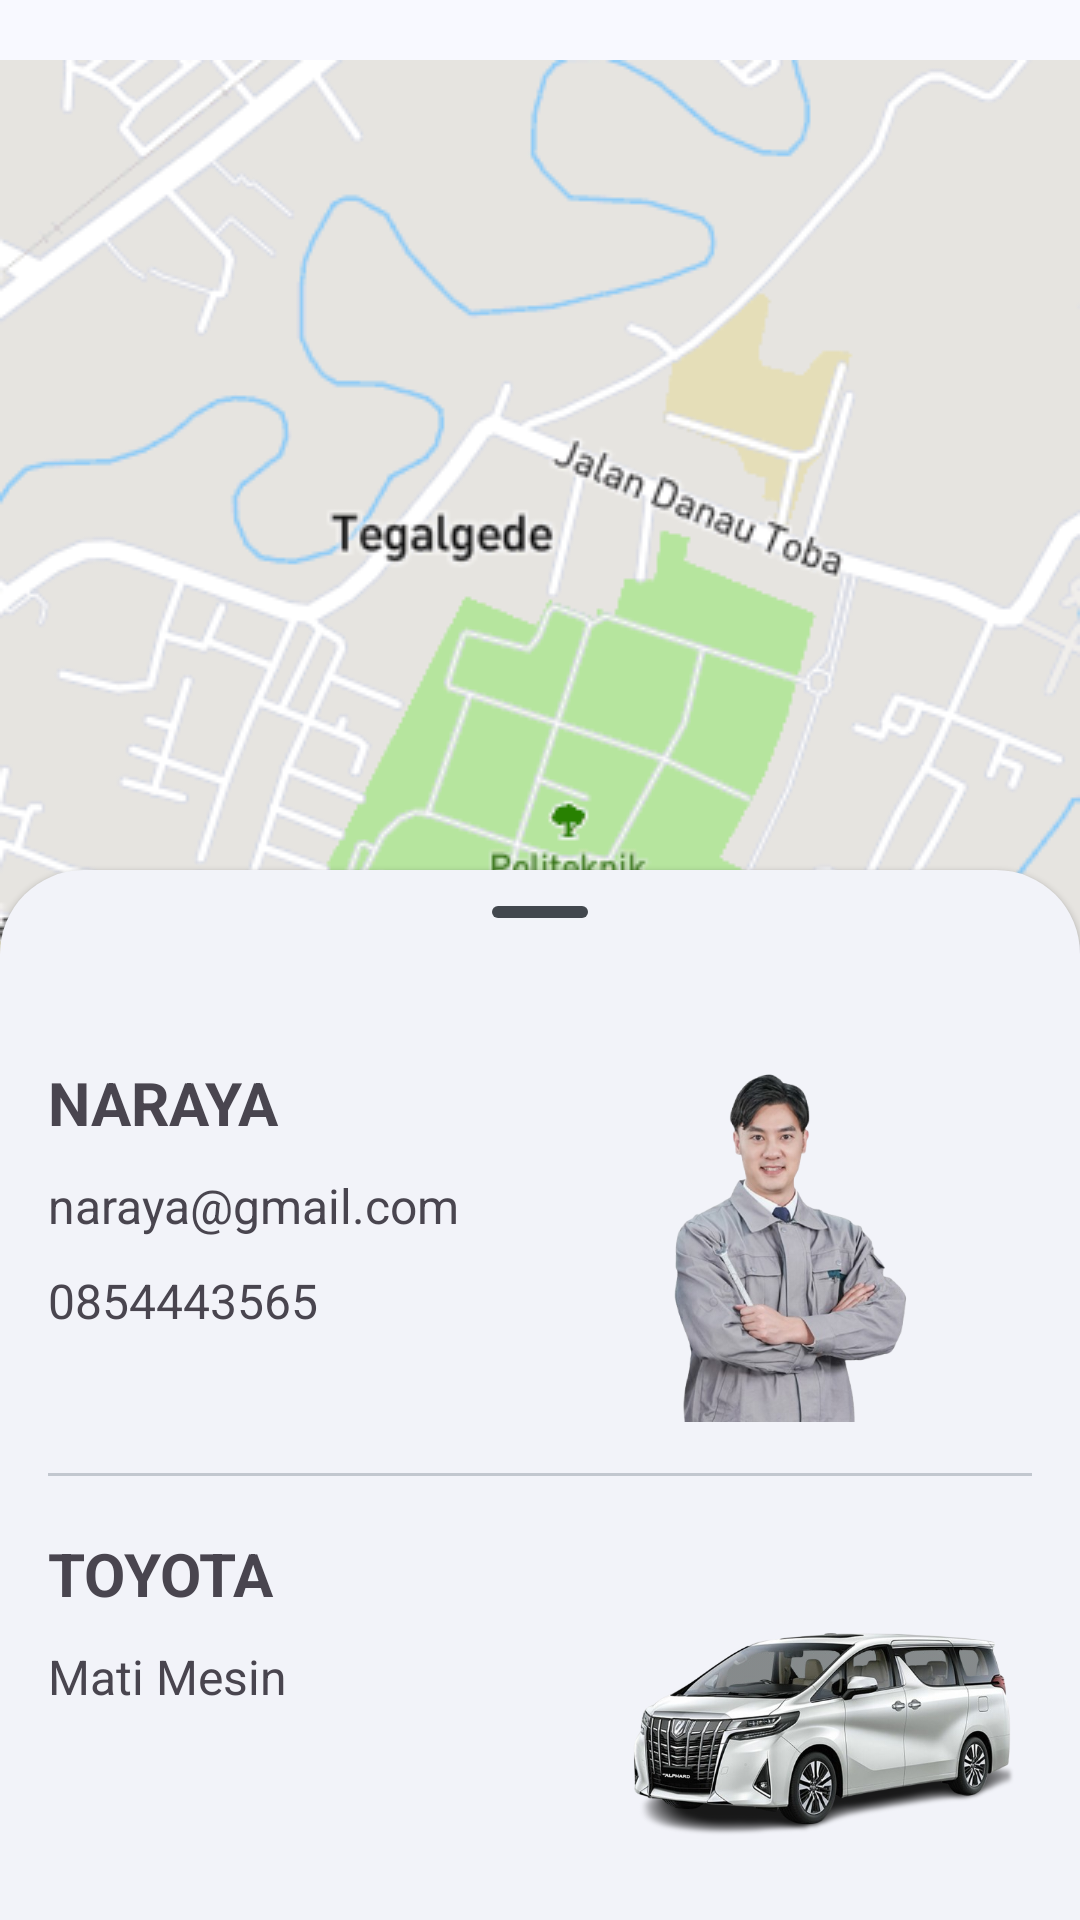

Named icons in this screenshot (1080px×1920px) and their bounding boxes, (x1, y1, x2, y2):
montir: (675, 1074, 906, 1422)
